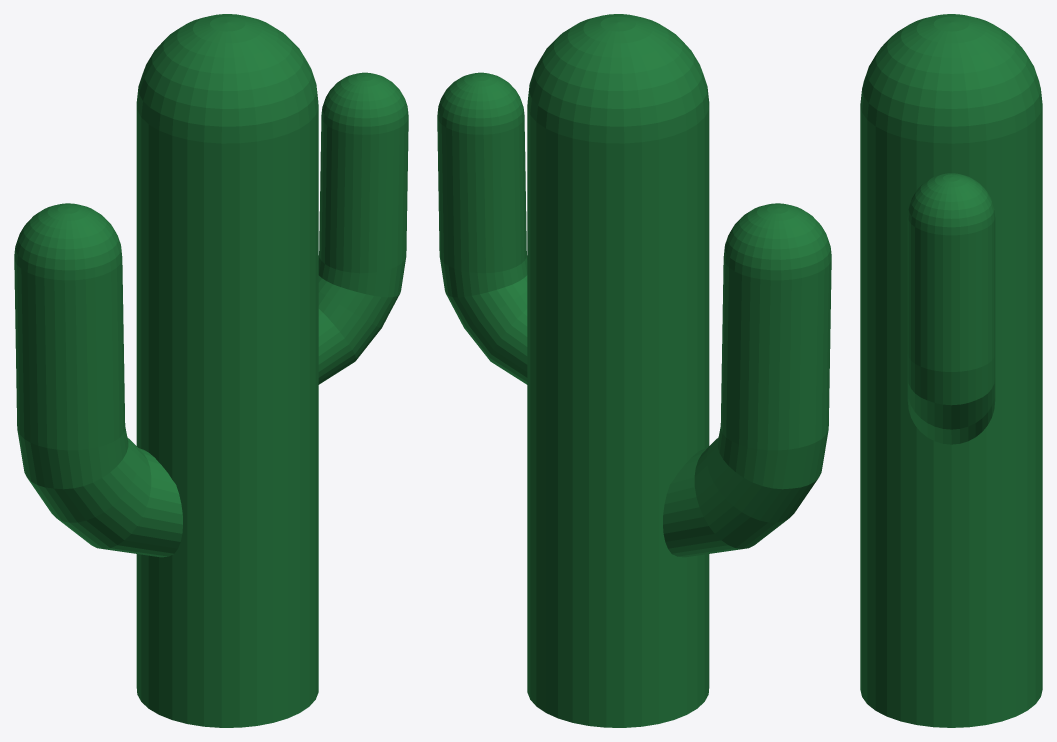
Rendered from cactus_1.fbx.
3 views of the same model, side by side, from view 1: azimuth 30°, elevation 25°; view 2: azimuth 150°, elevation 25°; view 3: azimuth 270°, elevation 25° (orthographic).
Visible parts, largest first — view 1: 球; view 2: 球; view 3: 球.
Part boxes in pixels (x1,y1,x2,y2): 球: [14, 14, 408, 727]; 球: [437, 14, 831, 727]; 球: [860, 14, 1042, 727].
Bounding box in the file's own units: 330 × 136 × 550.
